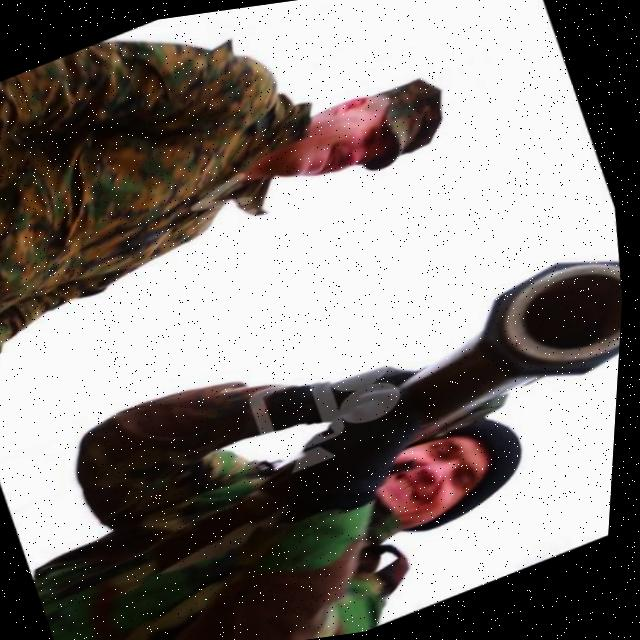rocket: (356, 239, 629, 451)
